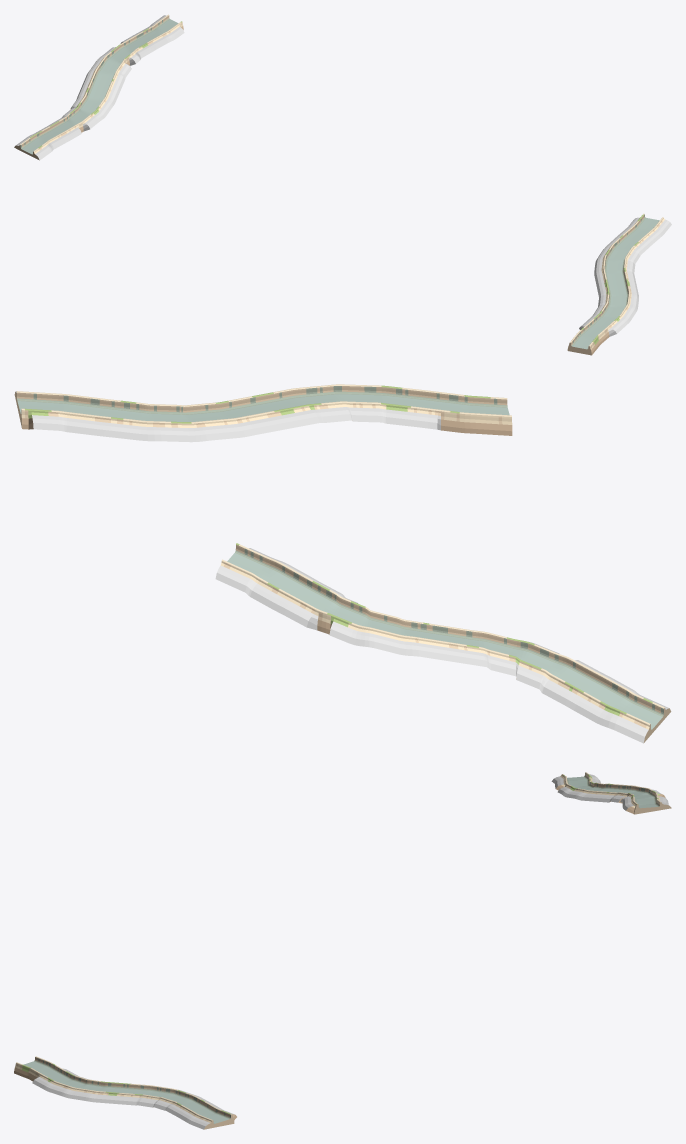
Rendered from run_slides.glb.
The picture shows the model from 3 angles, top to bottom: view 1: azimuth 30°, elevation 25°; view 2: azimuth 150°, elevation 25°; view 3: azimuth 270°, elevation 25°; orthographic projection. The views are drawn at different scales.
Visible parts, largest first — view 1: run_slides; view 2: run_slides; view 3: run_slides.
Boxes of the visible parts, <box> form: run_slides: <box>14,14,671,355</box>; run_slides: <box>14,384,671,743</box>; run_slides: <box>14,772,671,1129</box>.
Size of the model in its own units: 165 by 54.56 by 169.
